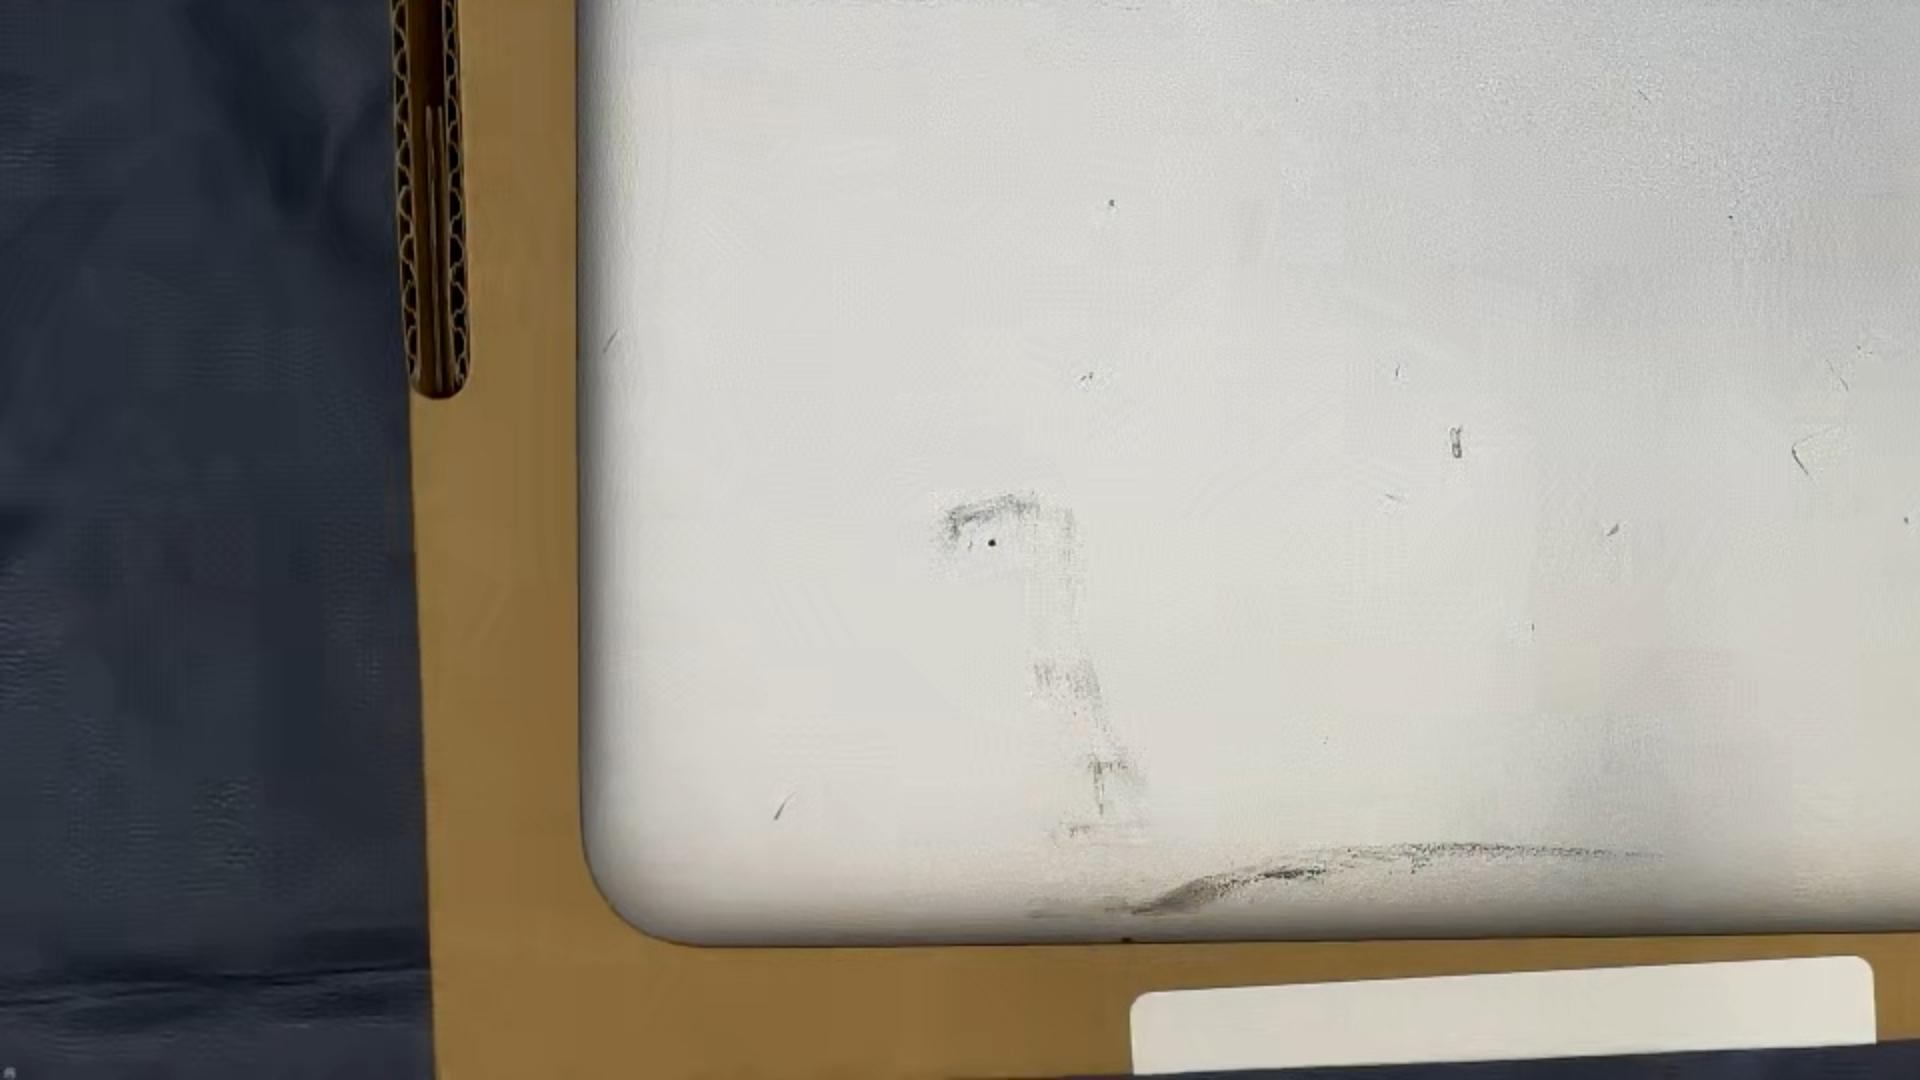chip: (1447, 421, 1465, 463), (1604, 522, 1623, 537), (985, 537, 1000, 549), (1108, 196, 1118, 208)
scratches: (1789, 423, 1838, 476), (1822, 357, 1851, 393), (771, 790, 799, 822), (601, 327, 621, 356), (1395, 363, 1400, 378), (1530, 621, 1536, 632)
